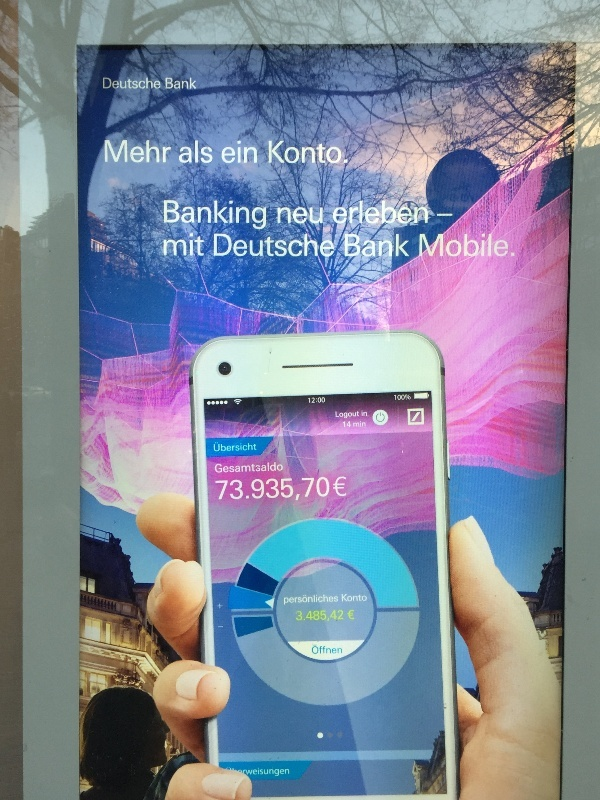text: (337, 199, 352, 238), (353, 199, 368, 238), (369, 199, 384, 238), (385, 199, 400, 238), (401, 199, 416, 238), (417, 199, 432, 238), (433, 199, 448, 238), (177, 199, 192, 232), (193, 199, 208, 232), (209, 199, 224, 232), (225, 199, 240, 232), (241, 199, 256, 232), (163, 199, 176, 232), (433, 232, 448, 259), (449, 232, 464, 259), (465, 232, 480, 259), (481, 232, 496, 259), (497, 232, 512, 259), (273, 139, 288, 165), (289, 139, 304, 165), (305, 139, 320, 165), (321, 139, 336, 165), (225, 139, 240, 165), (241, 139, 256, 165), (193, 139, 208, 165), (177, 234, 192, 259), (225, 477, 240, 501), (241, 477, 256, 501), (257, 477, 272, 501), (273, 477, 288, 501), (289, 477, 304, 501), (305, 477, 320, 501), (321, 477, 336, 501), (353, 234, 368, 258), (369, 234, 384, 258), (385, 234, 400, 258), (225, 234, 240, 258), (241, 234, 256, 258), (257, 234, 272, 258), (273, 234, 288, 258), (289, 234, 304, 258), (305, 234, 320, 258), (113, 139, 128, 163), (129, 139, 144, 163), (145, 139, 160, 163), (321, 234, 335, 258), (163, 234, 176, 259), (420, 232, 432, 259), (337, 139, 349, 165), (180, 139, 192, 165), (193, 234, 205, 259), (257, 199, 266, 232), (289, 206, 304, 225), (305, 206, 320, 225), (213, 234, 224, 258), (161, 139, 172, 163), (337, 477, 347, 501), (215, 477, 224, 501), (401, 234, 410, 258), (305, 610, 320, 624), (321, 610, 336, 624), (289, 591, 304, 605), (305, 591, 320, 605), (321, 591, 336, 605), (177, 76, 192, 90), (277, 206, 288, 225), (449, 199, 454, 238), (344, 234, 352, 258), (225, 462, 240, 474), (241, 462, 256, 474), (257, 462, 272, 474), (241, 441, 257, 452), (145, 78, 161, 89), (105, 139, 112, 163), (225, 441, 240, 452), (113, 78, 128, 89), (129, 78, 144, 89), (166, 76, 176, 90), (241, 768, 256, 777), (257, 768, 272, 777), (273, 768, 288, 777), (321, 645, 336, 654), (337, 411, 352, 420), (353, 593, 367, 602), (273, 462, 283, 474), (296, 610, 304, 624), (214, 441, 224, 452), (215, 462, 224, 474), (209, 139, 213, 165), (103, 78, 112, 89), (337, 610, 344, 624), (353, 421, 366, 428), (230, 768, 240, 777), (342, 593, 352, 602), (513, 232, 516, 259), (269, 139, 272, 165), (312, 645, 320, 654), (308, 398, 320, 404), (401, 394, 411, 401), (343, 421, 352, 428), (353, 411, 360, 420), (284, 591, 288, 605), (193, 76, 197, 90), (337, 645, 343, 654), (222, 139, 224, 165), (362, 410, 368, 417), (394, 394, 400, 401), (348, 610, 352, 620), (335, 199, 336, 238), (321, 206, 323, 225), (218, 603, 224, 609), (321, 398, 326, 404), (337, 591, 339, 605), (257, 139, 258, 165), (353, 610, 355, 620), (219, 626, 224, 628), (289, 768, 290, 777)
